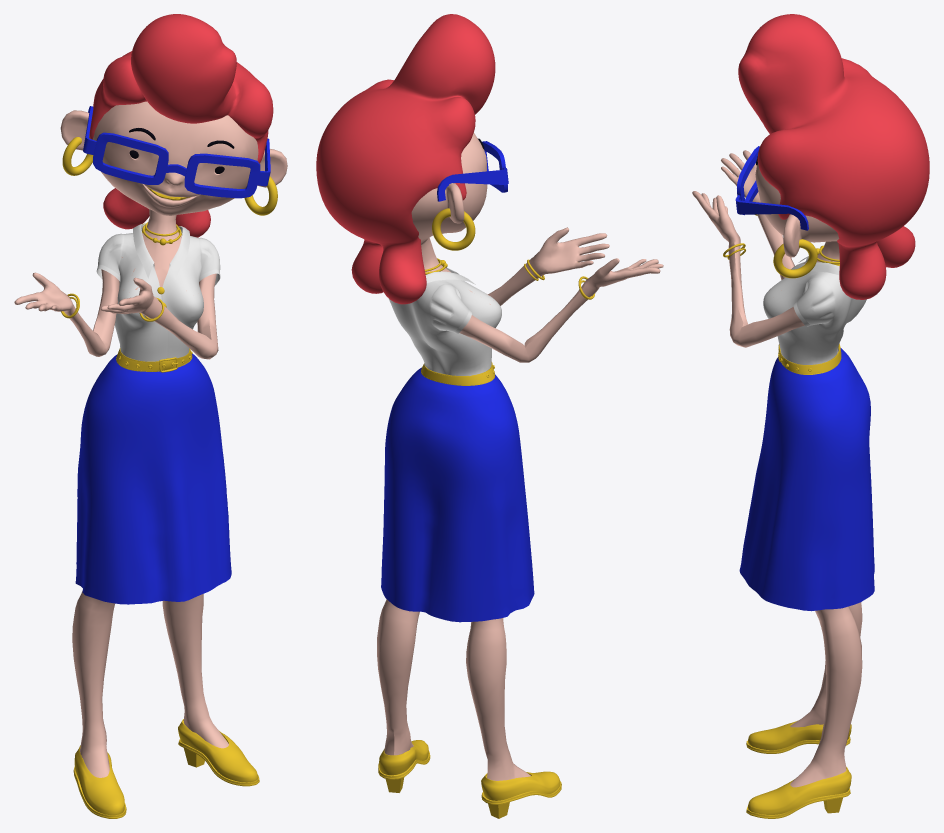
File: tia_15.fbx
3 renders of one model, left to right at view 1: azimuth 30°, elevation 25°; view 2: azimuth 150°, elevation 25°; view 3: azimuth 270°, elevation 25°, orthographic.
Visible parts, largest first — view 1: Tia_03.001; view 2: Tia_03.001; view 3: Tia_03.001.
Boxes of the visible parts, <box> form: Tia_03.001: <box>14,14,287,818</box>; Tia_03.001: <box>316,14,663,818</box>; Tia_03.001: <box>692,14,929,818</box>.
Bounding box in the file's own units: 4.33 × 10.9 × 3.03.
